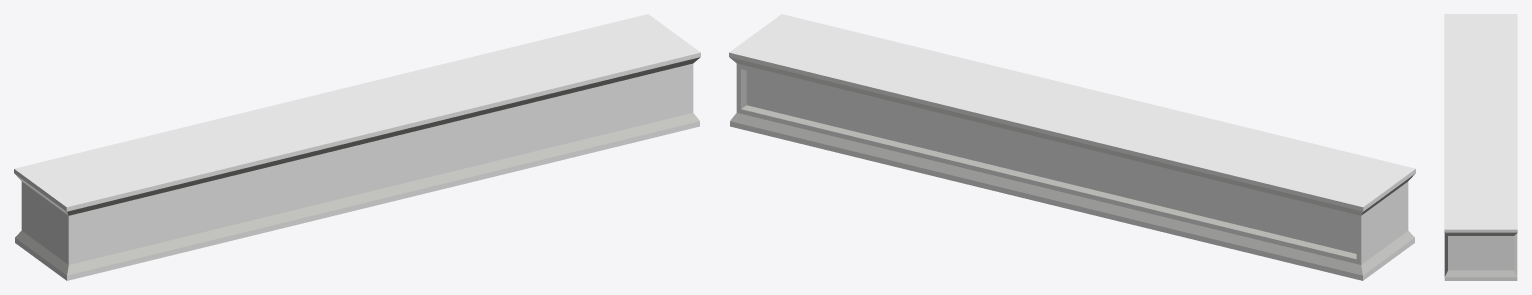
Rendered from block.fbx.
3 renders of one model, left to right at view 1: azimuth 30°, elevation 25°; view 2: azimuth 150°, elevation 25°; view 3: azimuth 270°, elevation 25°, orthographic. The views are drawn at different scales.
Parts seen in each view (by area): view 1: Cube.015; view 2: Cube.015; view 3: Cube.015.
Boxes of the visible parts, x1,y1,x2,y2 form: Cube.015: (14,14,700,280); Cube.015: (729,14,1415,280); Cube.015: (1444,14,1517,280).
Size of the model in its own units: 1553 by 173 by 224.
